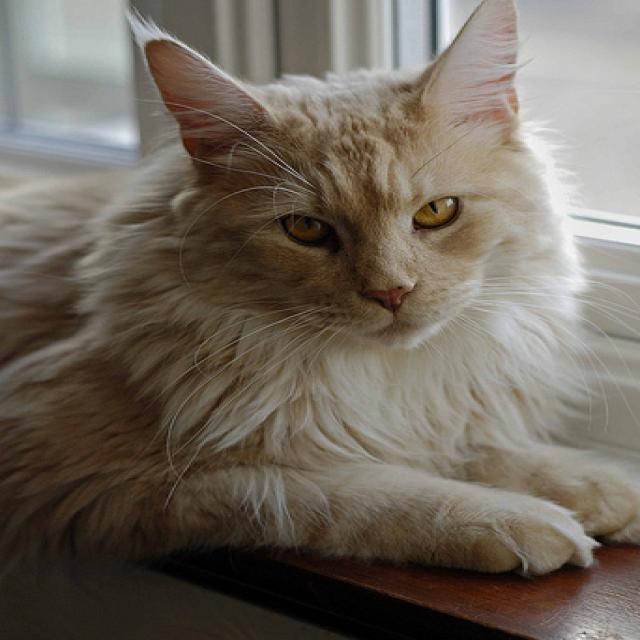Maine Coon: (0, 0, 640, 577)
